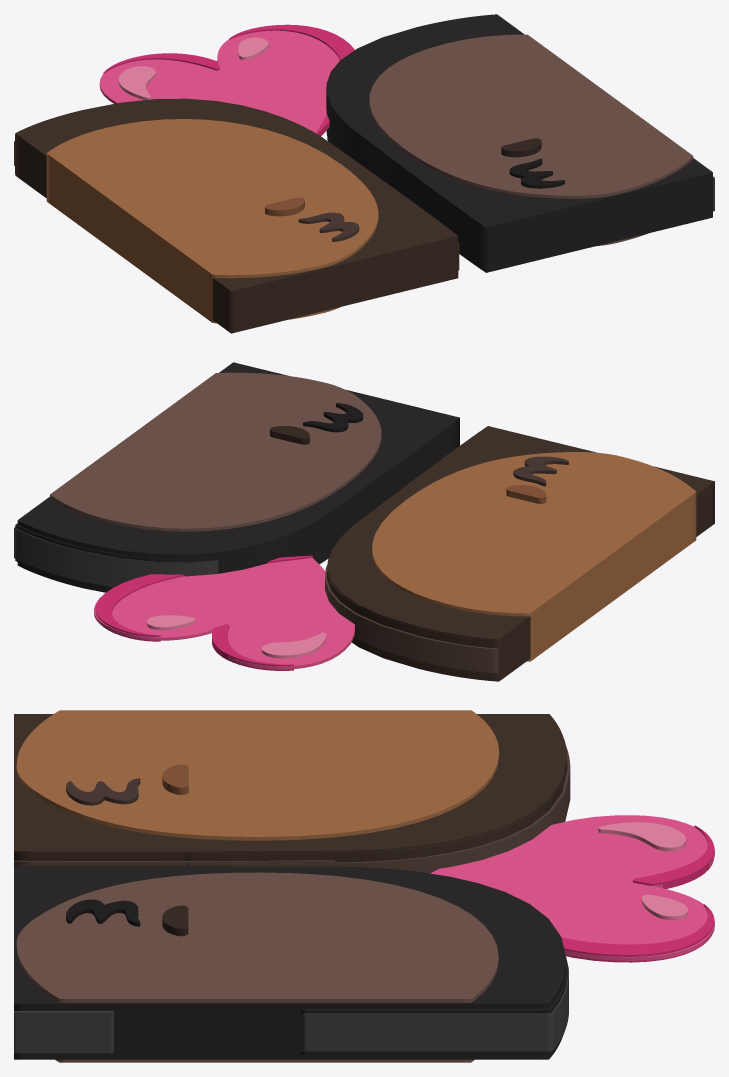
File: emoji_u1f469_1f3fe_200d_2764_200d_1f48b_200d_1f469_1f3ff.glb
3 renders of one model, top to bottom at view 1: azimuth 30°, elevation 25°; view 2: azimuth 150°, elevation 25°; view 3: azimuth 270°, elevation 25°, orthographic. The views are drawn at different scales.
Parts seen in each view (by area): view 1: emoji_u1f469_1f3fe_200d_2764_200d_1f48b_200d_1f469_1f3ff; view 2: emoji_u1f469_1f3fe_200d_2764_200d_1f48b_200d_1f469_1f3ff; view 3: emoji_u1f469_1f3fe_200d_2764_200d_1f48b_200d_1f469_1f3ff.
Part boxes in pixels (box(x1,y1,x2,y2)): emoji_u1f469_1f3fe_200d_2764_200d_1f48b_200d_1f469_1f3ff: box(14, 14, 714, 333); emoji_u1f469_1f3fe_200d_2764_200d_1f48b_200d_1f469_1f3ff: box(14, 362, 714, 681); emoji_u1f469_1f3fe_200d_2764_200d_1f48b_200d_1f469_1f3ff: box(14, 710, 714, 1062).
Size of the model in its own units: 0.0336 by 0.0042 by 0.0339.
